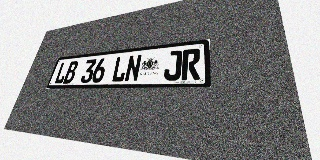3: (80, 59, 97, 83)
6: (91, 58, 108, 83)
B: (63, 61, 79, 84)
J: (163, 50, 182, 81)
L: (111, 56, 129, 82), (54, 62, 70, 84)
N: (124, 54, 142, 82)
R: (181, 48, 200, 80)
